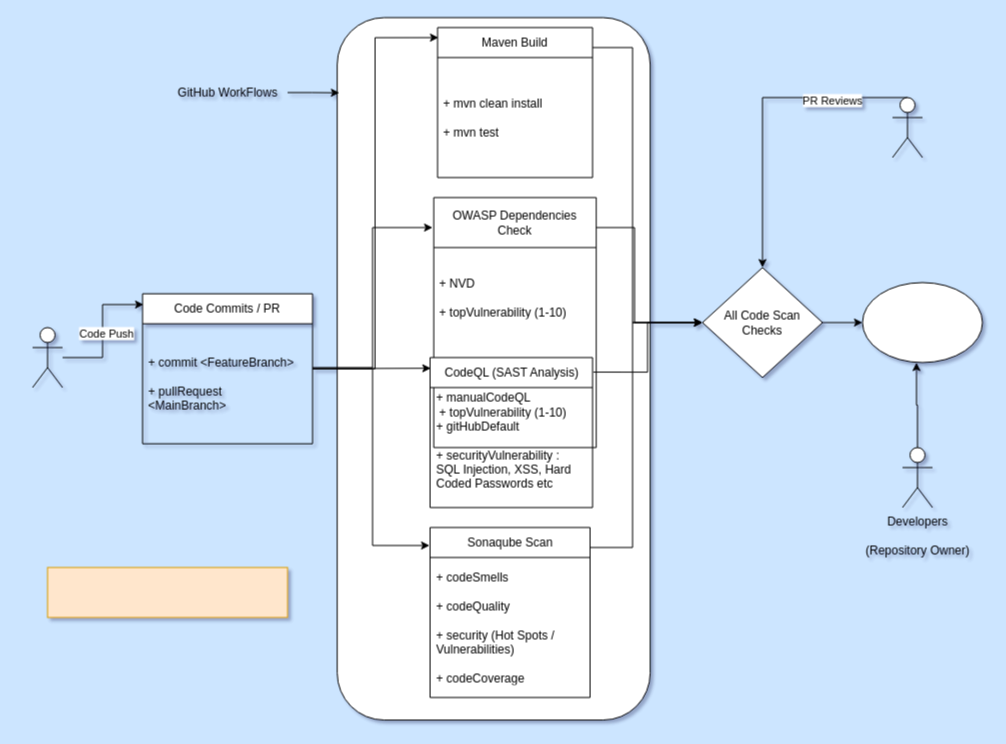
Some shapes in this 1006 by 744 pixel diagram are drawn without their labels. The shapes that lost their labels are listed below. From the top down, each one's centre as x and y in pixels, then its label:
(x=907, y=127): Developers (PR Peer Reviews Manual)
(x=922, y=322): Code Merged
(x=47, y=357): Developers
(x=167, y=592): Continuous Integration (CI) WorkFlows
